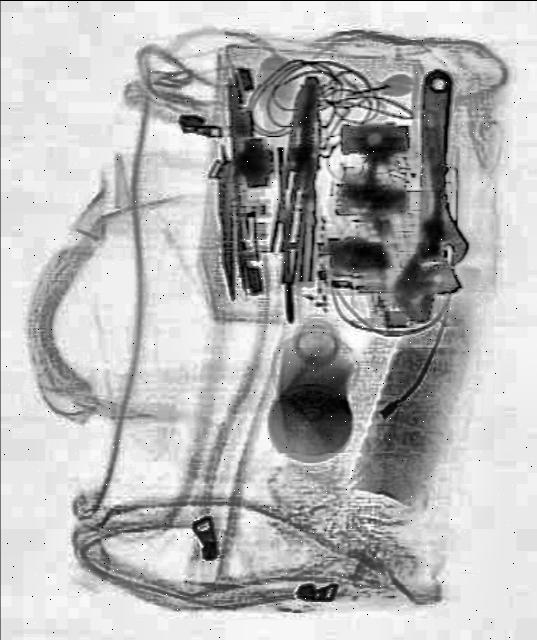Wrench: (387, 66, 475, 328)
